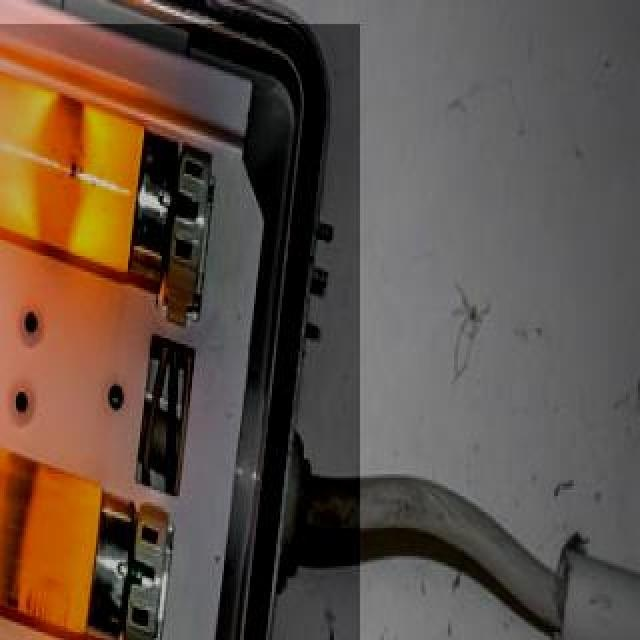fluorescent tube: (0, 254, 206, 640), (0, 0, 236, 332)
